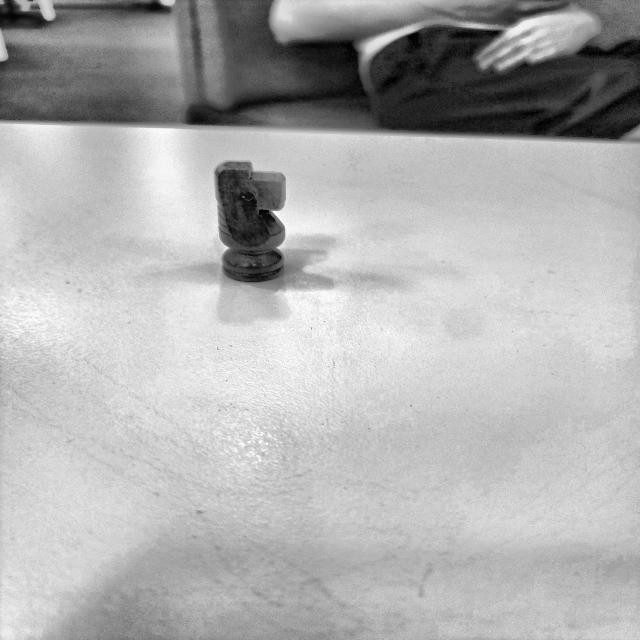black-knight: (215, 162, 287, 282)
